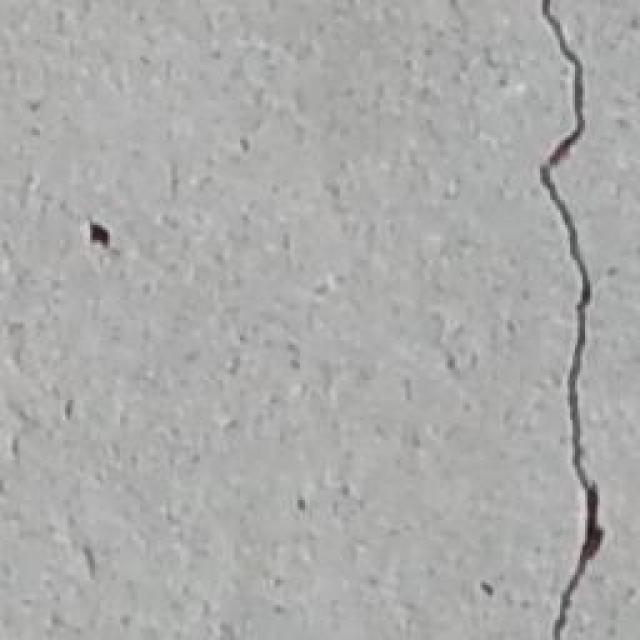concrete-crack: (538, 0, 605, 640)
